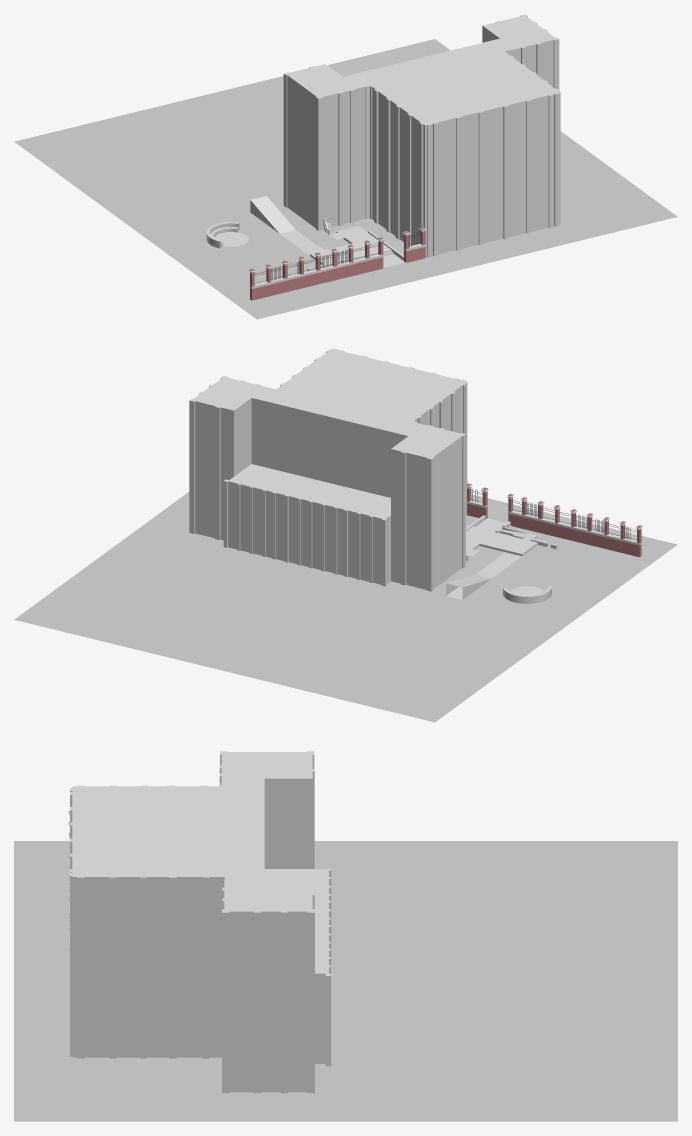
File: escada.dae
The picture shows the model from 3 angles, top to bottom: view 1: azimuth 30°, elevation 25°; view 2: azimuth 150°, elevation 25°; view 3: azimuth 270°, elevation 25°; orthographic projection. The views are drawn at different scales.
Visible parts, largest first — view 1: Palácio_Cruz_e_Souza_-_Corpo, Chão, Jardim_2, MuroFE, Muro_000, Muro_008; view 2: Chão, Palácio_Cruz_e_Souza_-_Corpo, Vão_de_Acesso, Jardim_2, MuroFE, Muro_000; view 3: Chão, Palácio_Cruz_e_Souza_-_Corpo, Vão_de_Acesso.
Boxes of the visible parts, box(x1,y1,x2,y2) form: Palácio_Cruz_e_Souza_-_Corpo: box(283, 14, 560, 257); Chão: box(14, 39, 677, 319); Jardim_2: box(206, 196, 405, 270); MuroFE: box(249, 244, 367, 300); Muro_000: box(402, 226, 426, 262); Muro_008: box(364, 237, 384, 272); Chão: box(14, 492, 677, 722); Palácio_Cruz_e_Souza_-_Corpo: box(189, 348, 467, 591); Vão_de_Acesso: box(223, 464, 390, 586); Jardim_2: box(446, 515, 557, 603); MuroFE: box(524, 501, 642, 557); Muro_000: box(467, 483, 488, 518); Chão: box(14, 841, 677, 1121); Palácio_Cruz_e_Souza_-_Corpo: box(70, 751, 314, 1093); Vão_de_Acesso: box(264, 868, 331, 1066).
Size of the model in its own units: 9.99 by 9.99 by 3.05.
